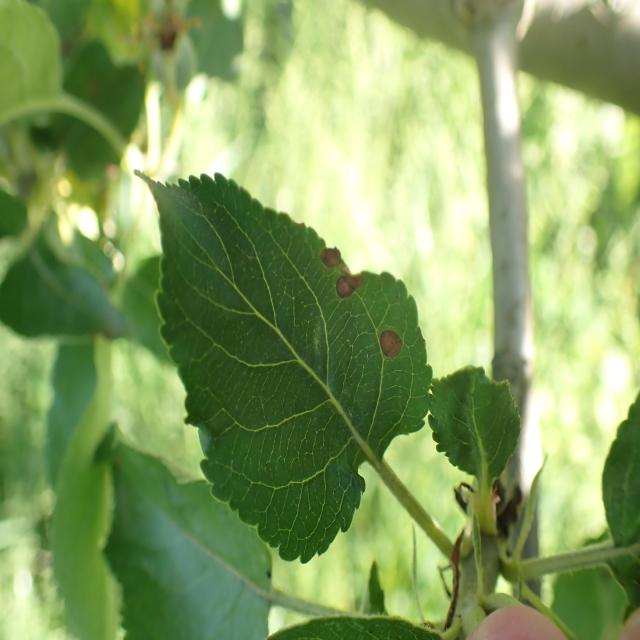Black Rot: (309, 229, 373, 330), (370, 310, 424, 404)
